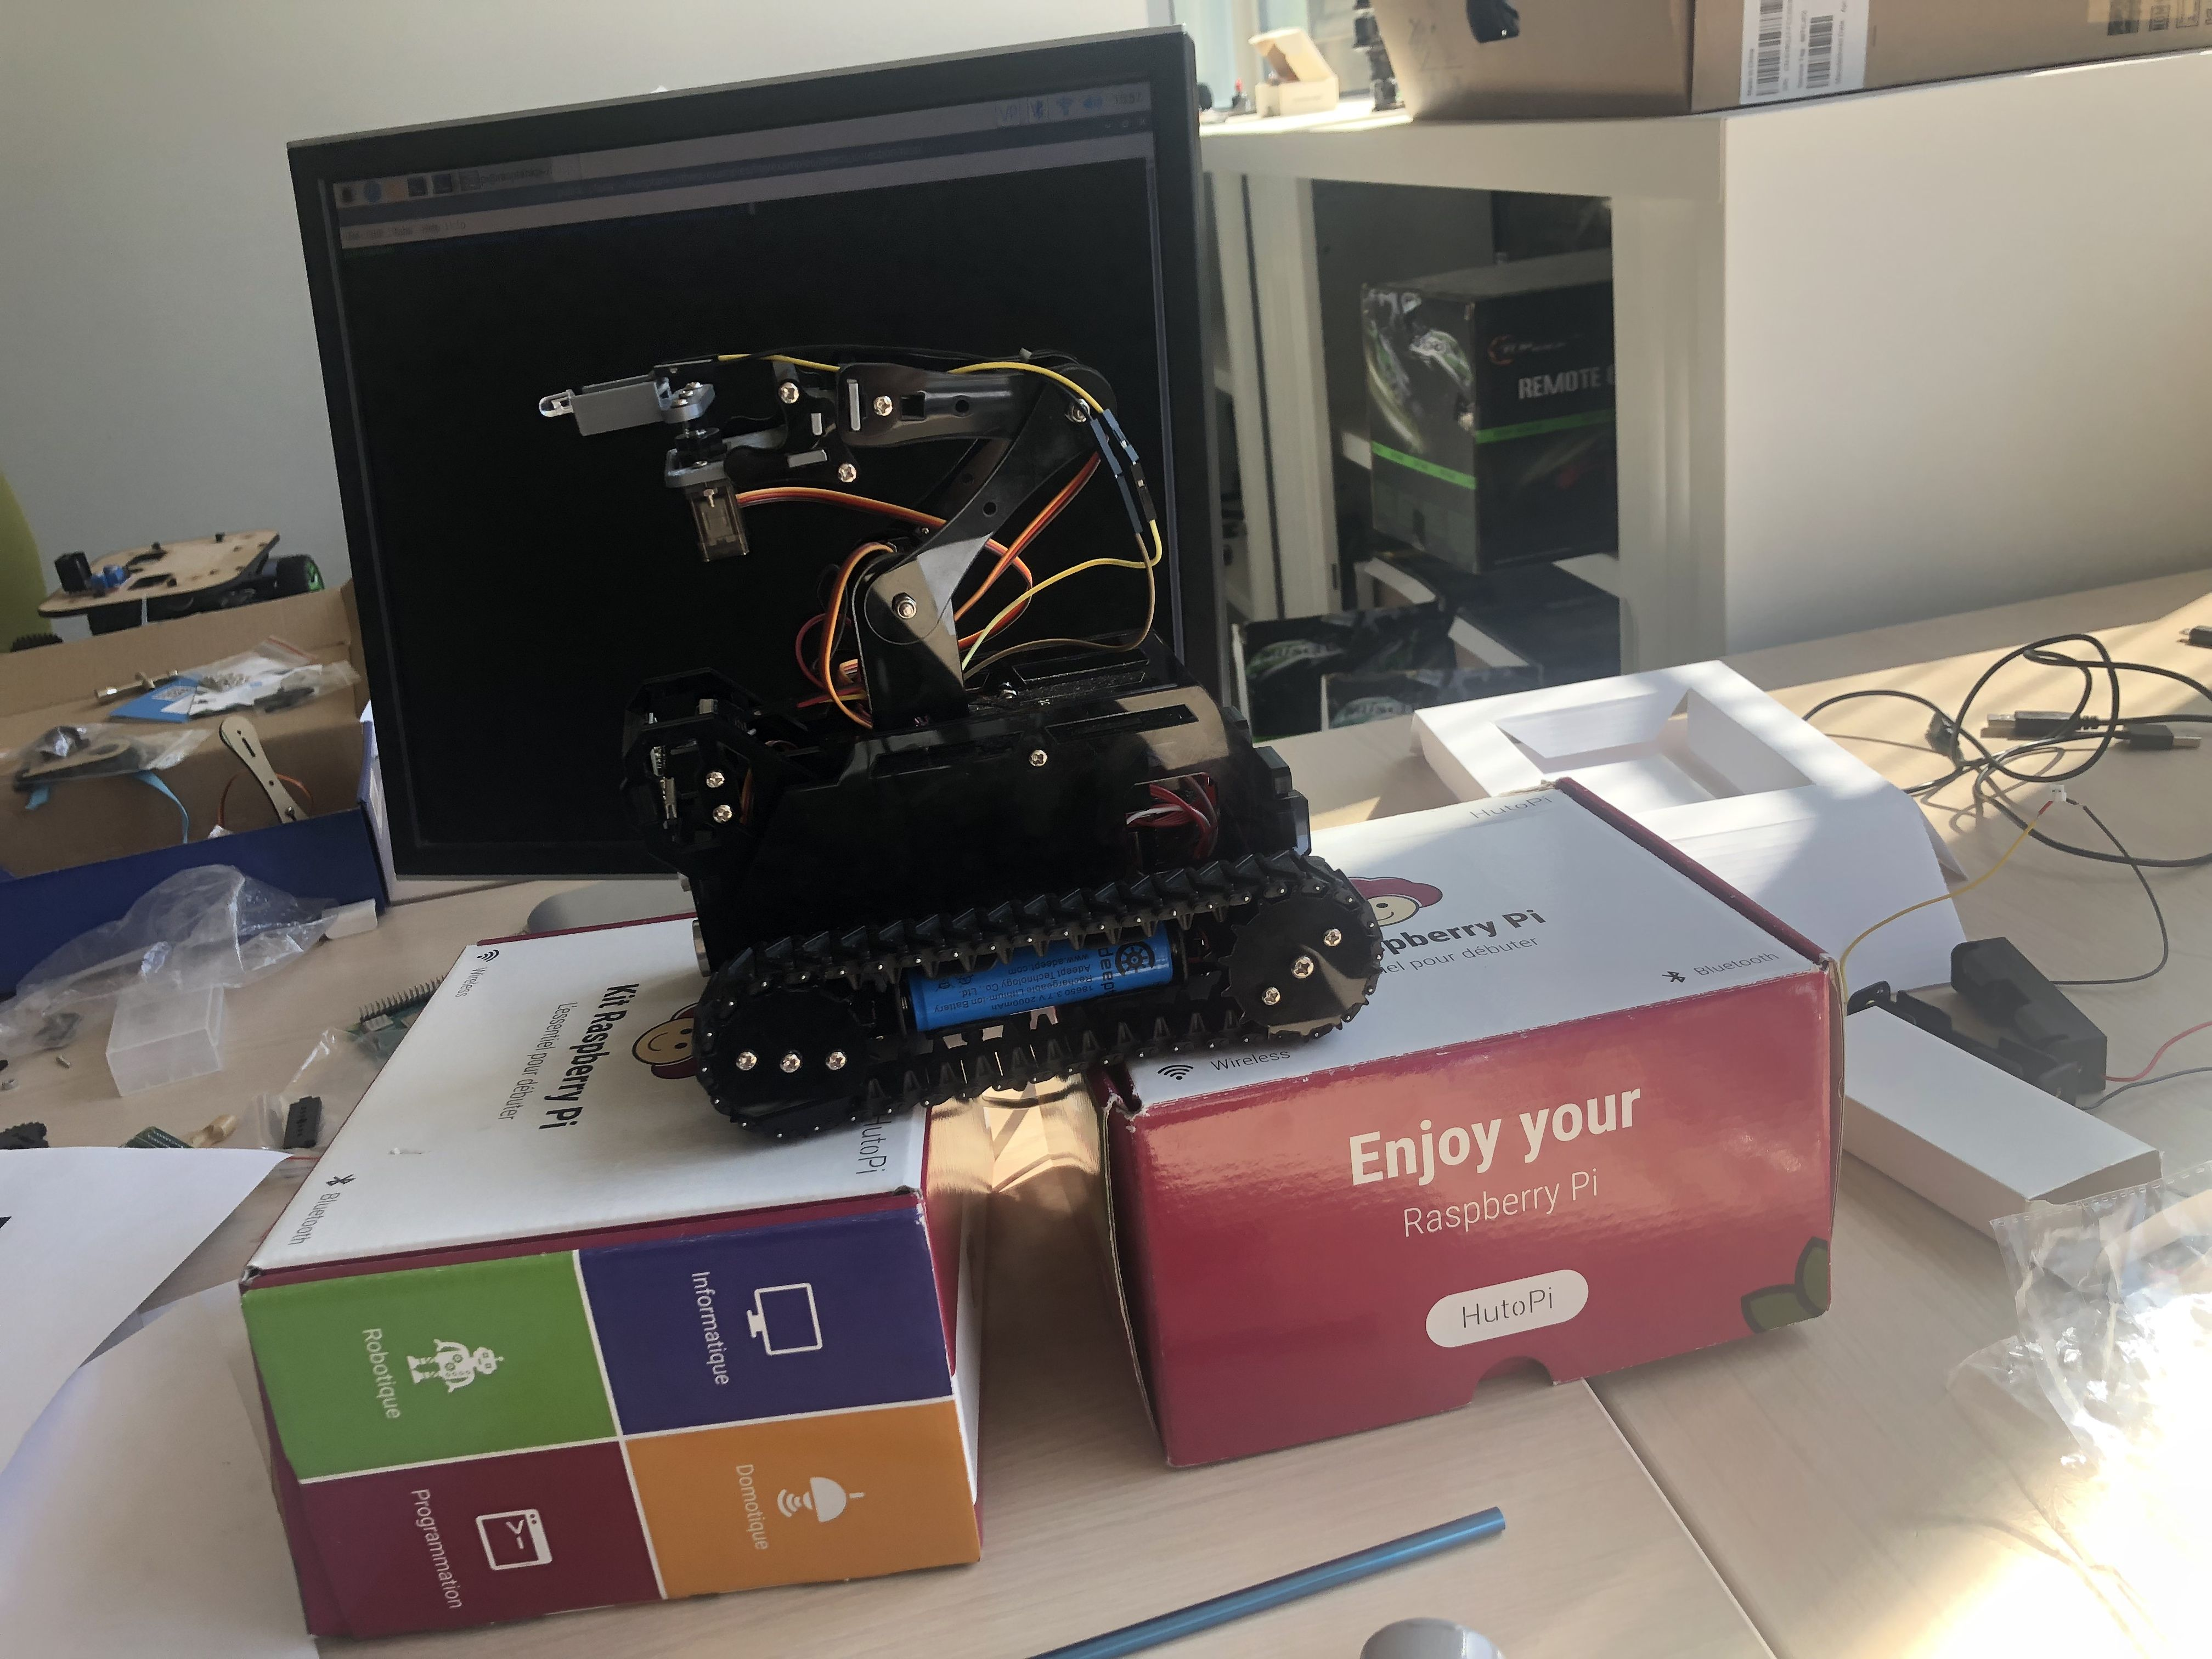rasptank: (503, 373, 1385, 1068)
